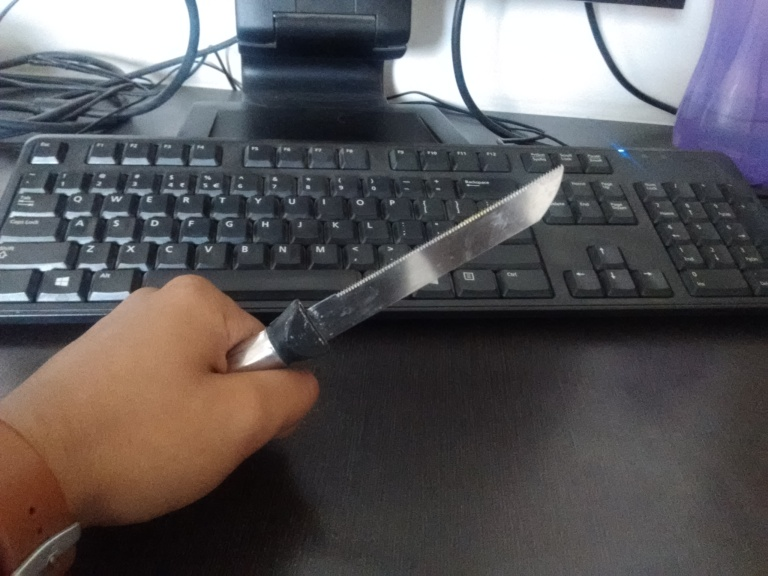knife: (219, 163, 564, 369)
